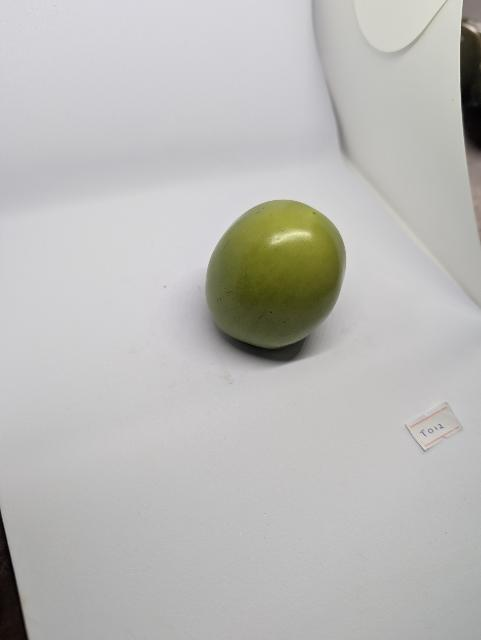green: (203, 195, 352, 353)
